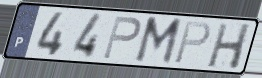4: (70, 12, 104, 61), (35, 11, 64, 57)
H: (205, 22, 254, 71)
M: (132, 16, 185, 68)
P: (100, 15, 143, 61), (172, 20, 214, 66)
